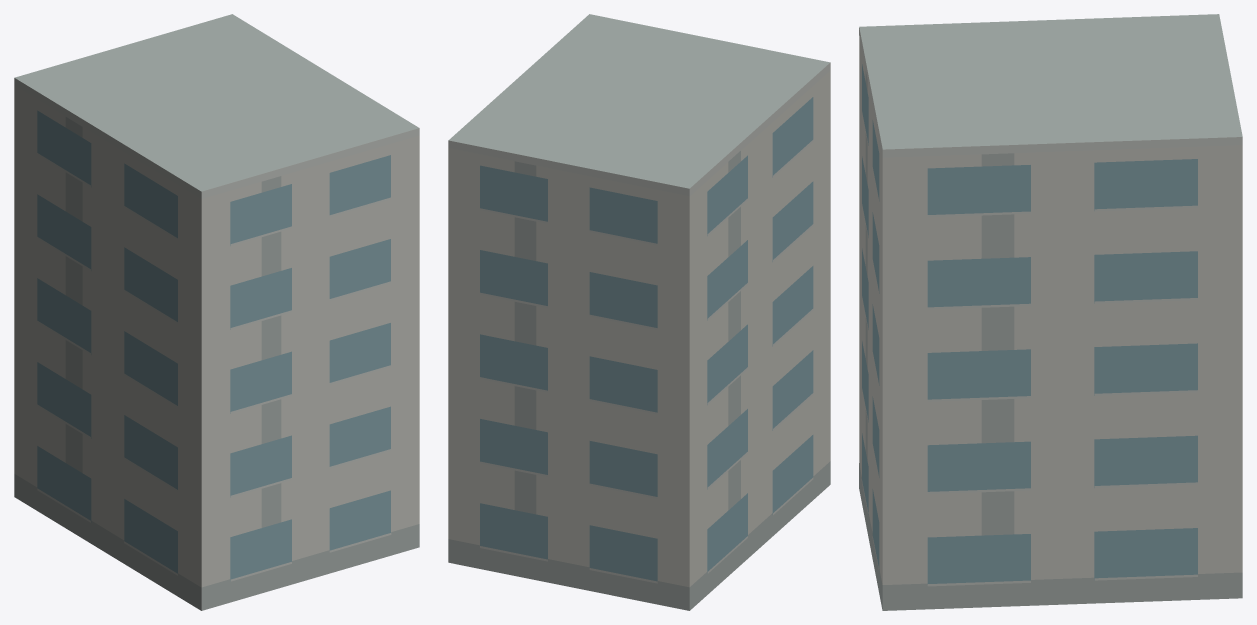
Rendered from survey-upis-32755220.glb.
The picture shows the model from 3 angles, left to right: view 1: azimuth 30°, elevation 25°; view 2: azimuth 150°, elevation 25°; view 3: azimuth 270°, elevation 25°; orthographic projection. The views are drawn at different scales.
Visible parts, largest first — view 1: survey-upis-32755220.tmp; view 2: survey-upis-32755220.tmp; view 3: survey-upis-32755220.tmp.
Boxes of the visible parts, x1,y1,x2,y2 form: survey-upis-32755220.tmp: (14, 14, 419, 610); survey-upis-32755220.tmp: (448, 14, 830, 610); survey-upis-32755220.tmp: (859, 14, 1242, 610).
Size of the model in its own units: 8.52 by 13.5 by 10.18.
